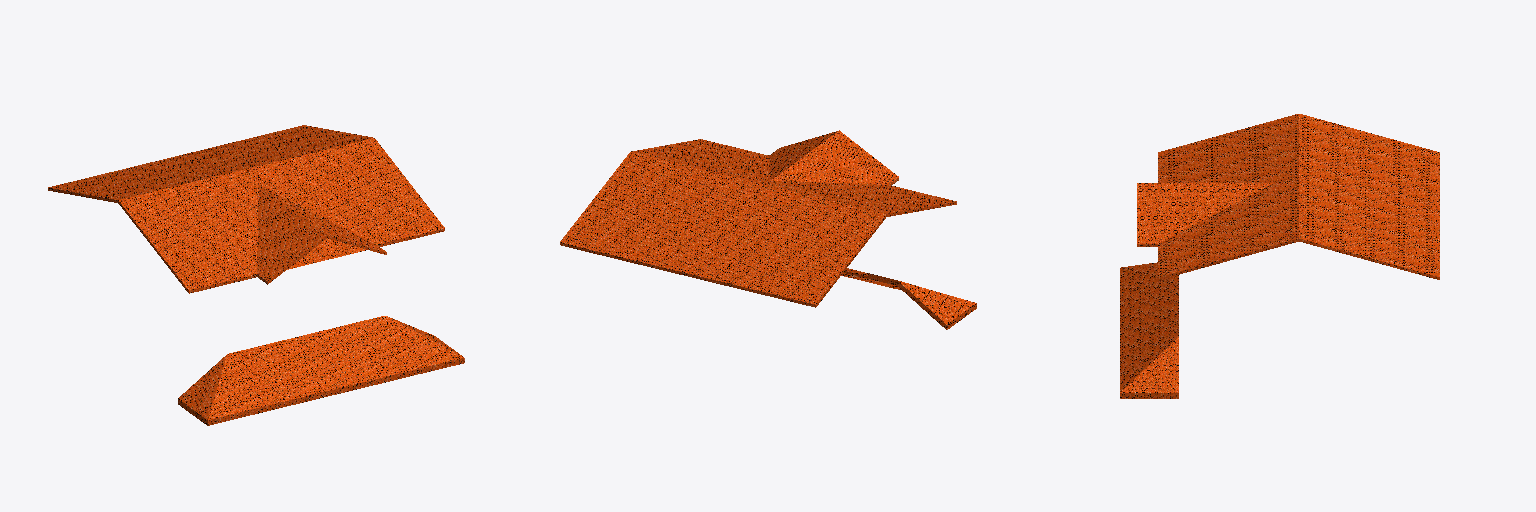
The picture shows the model from 3 angles: view 1: azimuth 30°, elevation 25°; view 2: azimuth 150°, elevation 25°; view 3: azimuth 270°, elevation 25°; orthographic projection.
Parts seen in each view (by area): view 1: Cube.002; view 2: Cube.002; view 3: Cube.002.
Boxes of the visible parts, <box> form: Cube.002: <box>48,125,464,425</box>; Cube.002: <box>560,130,976,329</box>; Cube.002: <box>1120,114,1439,398</box>.
Bounding box in the file's own units: 4.3 × 2.56 × 4.64.
3 materials, 1 textured.